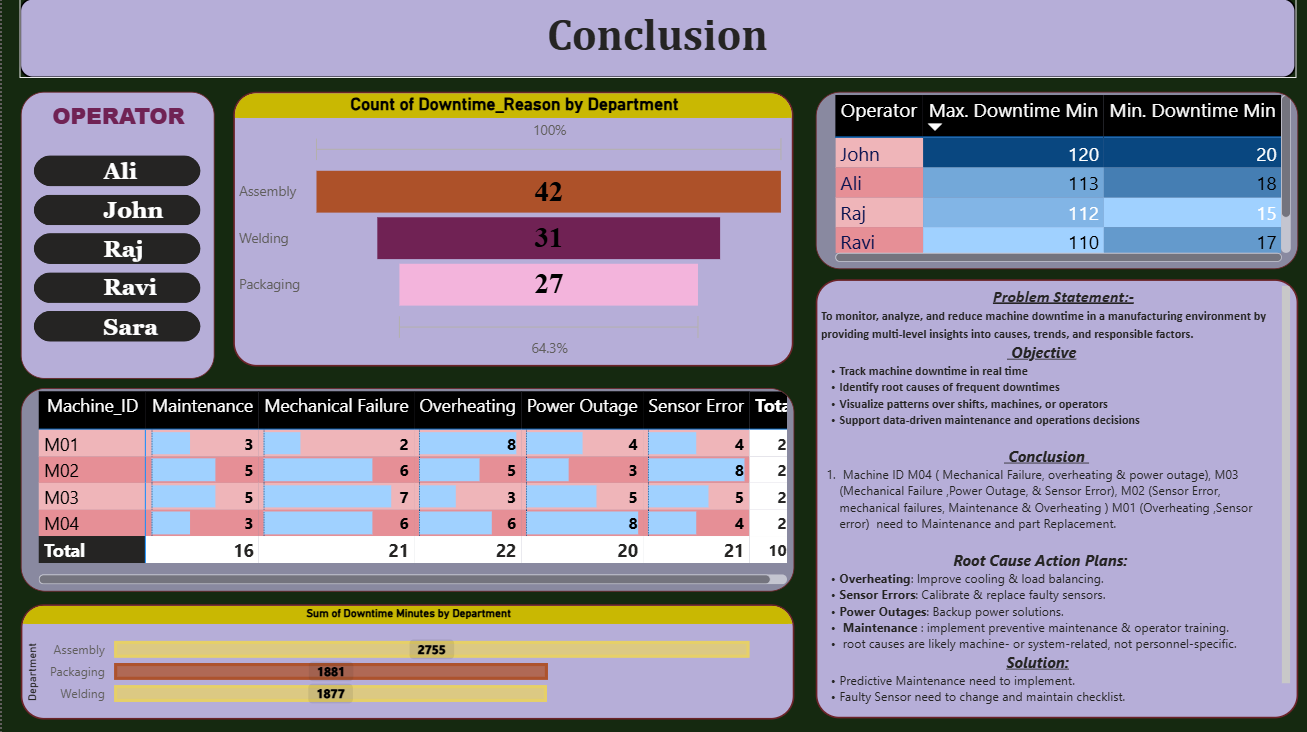

The page's visual inventory and layout, read from the dashboard file:
{"tool":"powerbi","page":{"name":"Conclusion","canvas":[1280,720],"ordinal":2},"visuals":[{"type":"textbox","box":[17.5,0,1248.8,78.8],"z":0},{"type":"funnel","fields":{"Category":["Downtime Data.Department"],"Y":["Downtime Data.Downtime_Reason"]},"box":[226.8,91.8,548.2,268.5],"z":1000},{"type":"advancedSlicerVisual","title":"OPERATOR","fields":{"Values":["Downtime Data.Operator"]},"box":[18.1,91.8,189.2,281],"z":2000},{"type":"tableEx","fields":{"Values":["Downtime Data.Operator","Downtime Data.Downtime Minutes","Sum(Downtime Data.Downtime Minutes)1"]},"box":[795.8,91.8,471.7,173.9],"z":3000},{"type":"pivotTable","fields":{"Rows":["Downtime Data.Machine_ID"],"Values":["Downtime Data.Downtime_Reason"],"Columns":["Downtime Data.Downtime_Reason"]},"box":[18.1,381.2,756.9,199],"z":4000},{"type":"barChart","fields":{"Category":["Downtime Data.Department"],"Y":["Downtime Data.Downtime Minutes"]},"box":[18.1,592.7,756.9,112.7],"z":5000},{"type":"textbox","box":[795.8,275.5,471.7,429.9],"z":6000}]}

Visuals, with their boxes in screenshot pixels (x1, y1, x2, y2), scaled from the page's 1280x720 canvas onto the 1307x732 screenshot:
textbox: (18,0,1293,80)
funnel - Downtime Data.Department x Downtime Data.Downtime_Reason: (232,93,791,366)
"OPERATOR" advancedSlicerVisual: (18,93,212,379)
tableEx - Downtime Data.Operator x Downtime Data.Downtime Minutes: (813,93,1294,270)
pivotTable - Downtime Data.Machine_ID x Downtime Data.Downtime_Reason: (18,388,791,590)
barChart - Downtime Data.Department x Downtime Data.Downtime Minutes: (18,603,791,717)
textbox: (813,280,1294,717)
